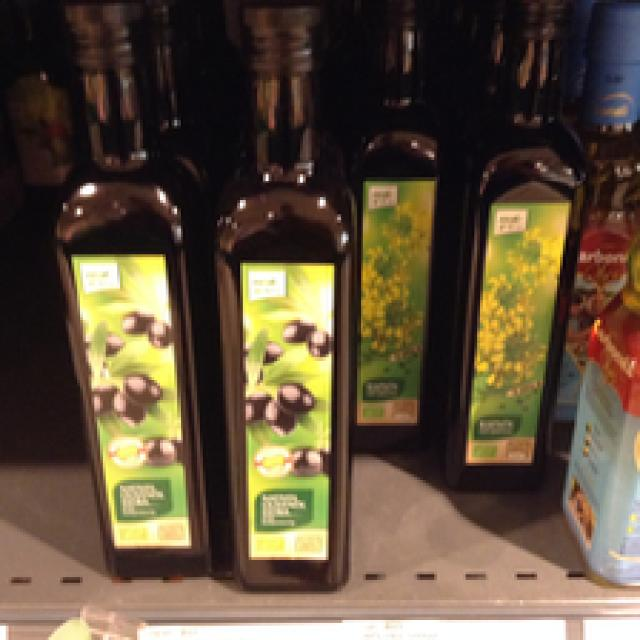groceries: (43, 3, 217, 580), (209, 3, 354, 588), (440, 8, 577, 486)
